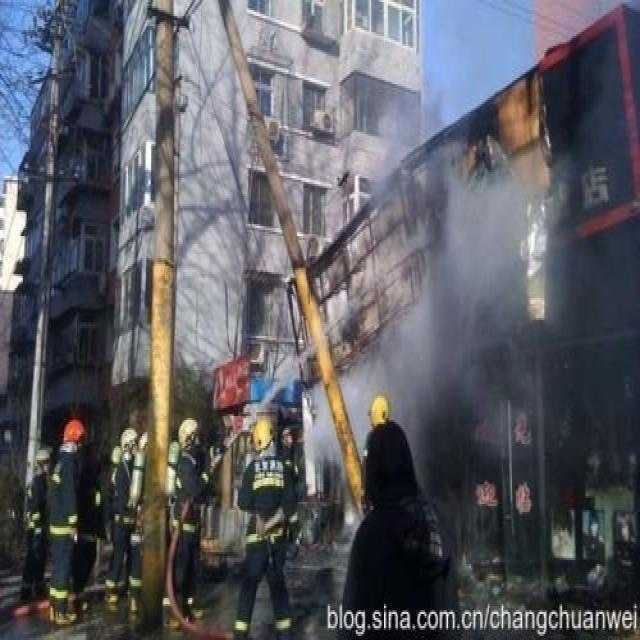Smoke: (304, 90, 578, 484)
